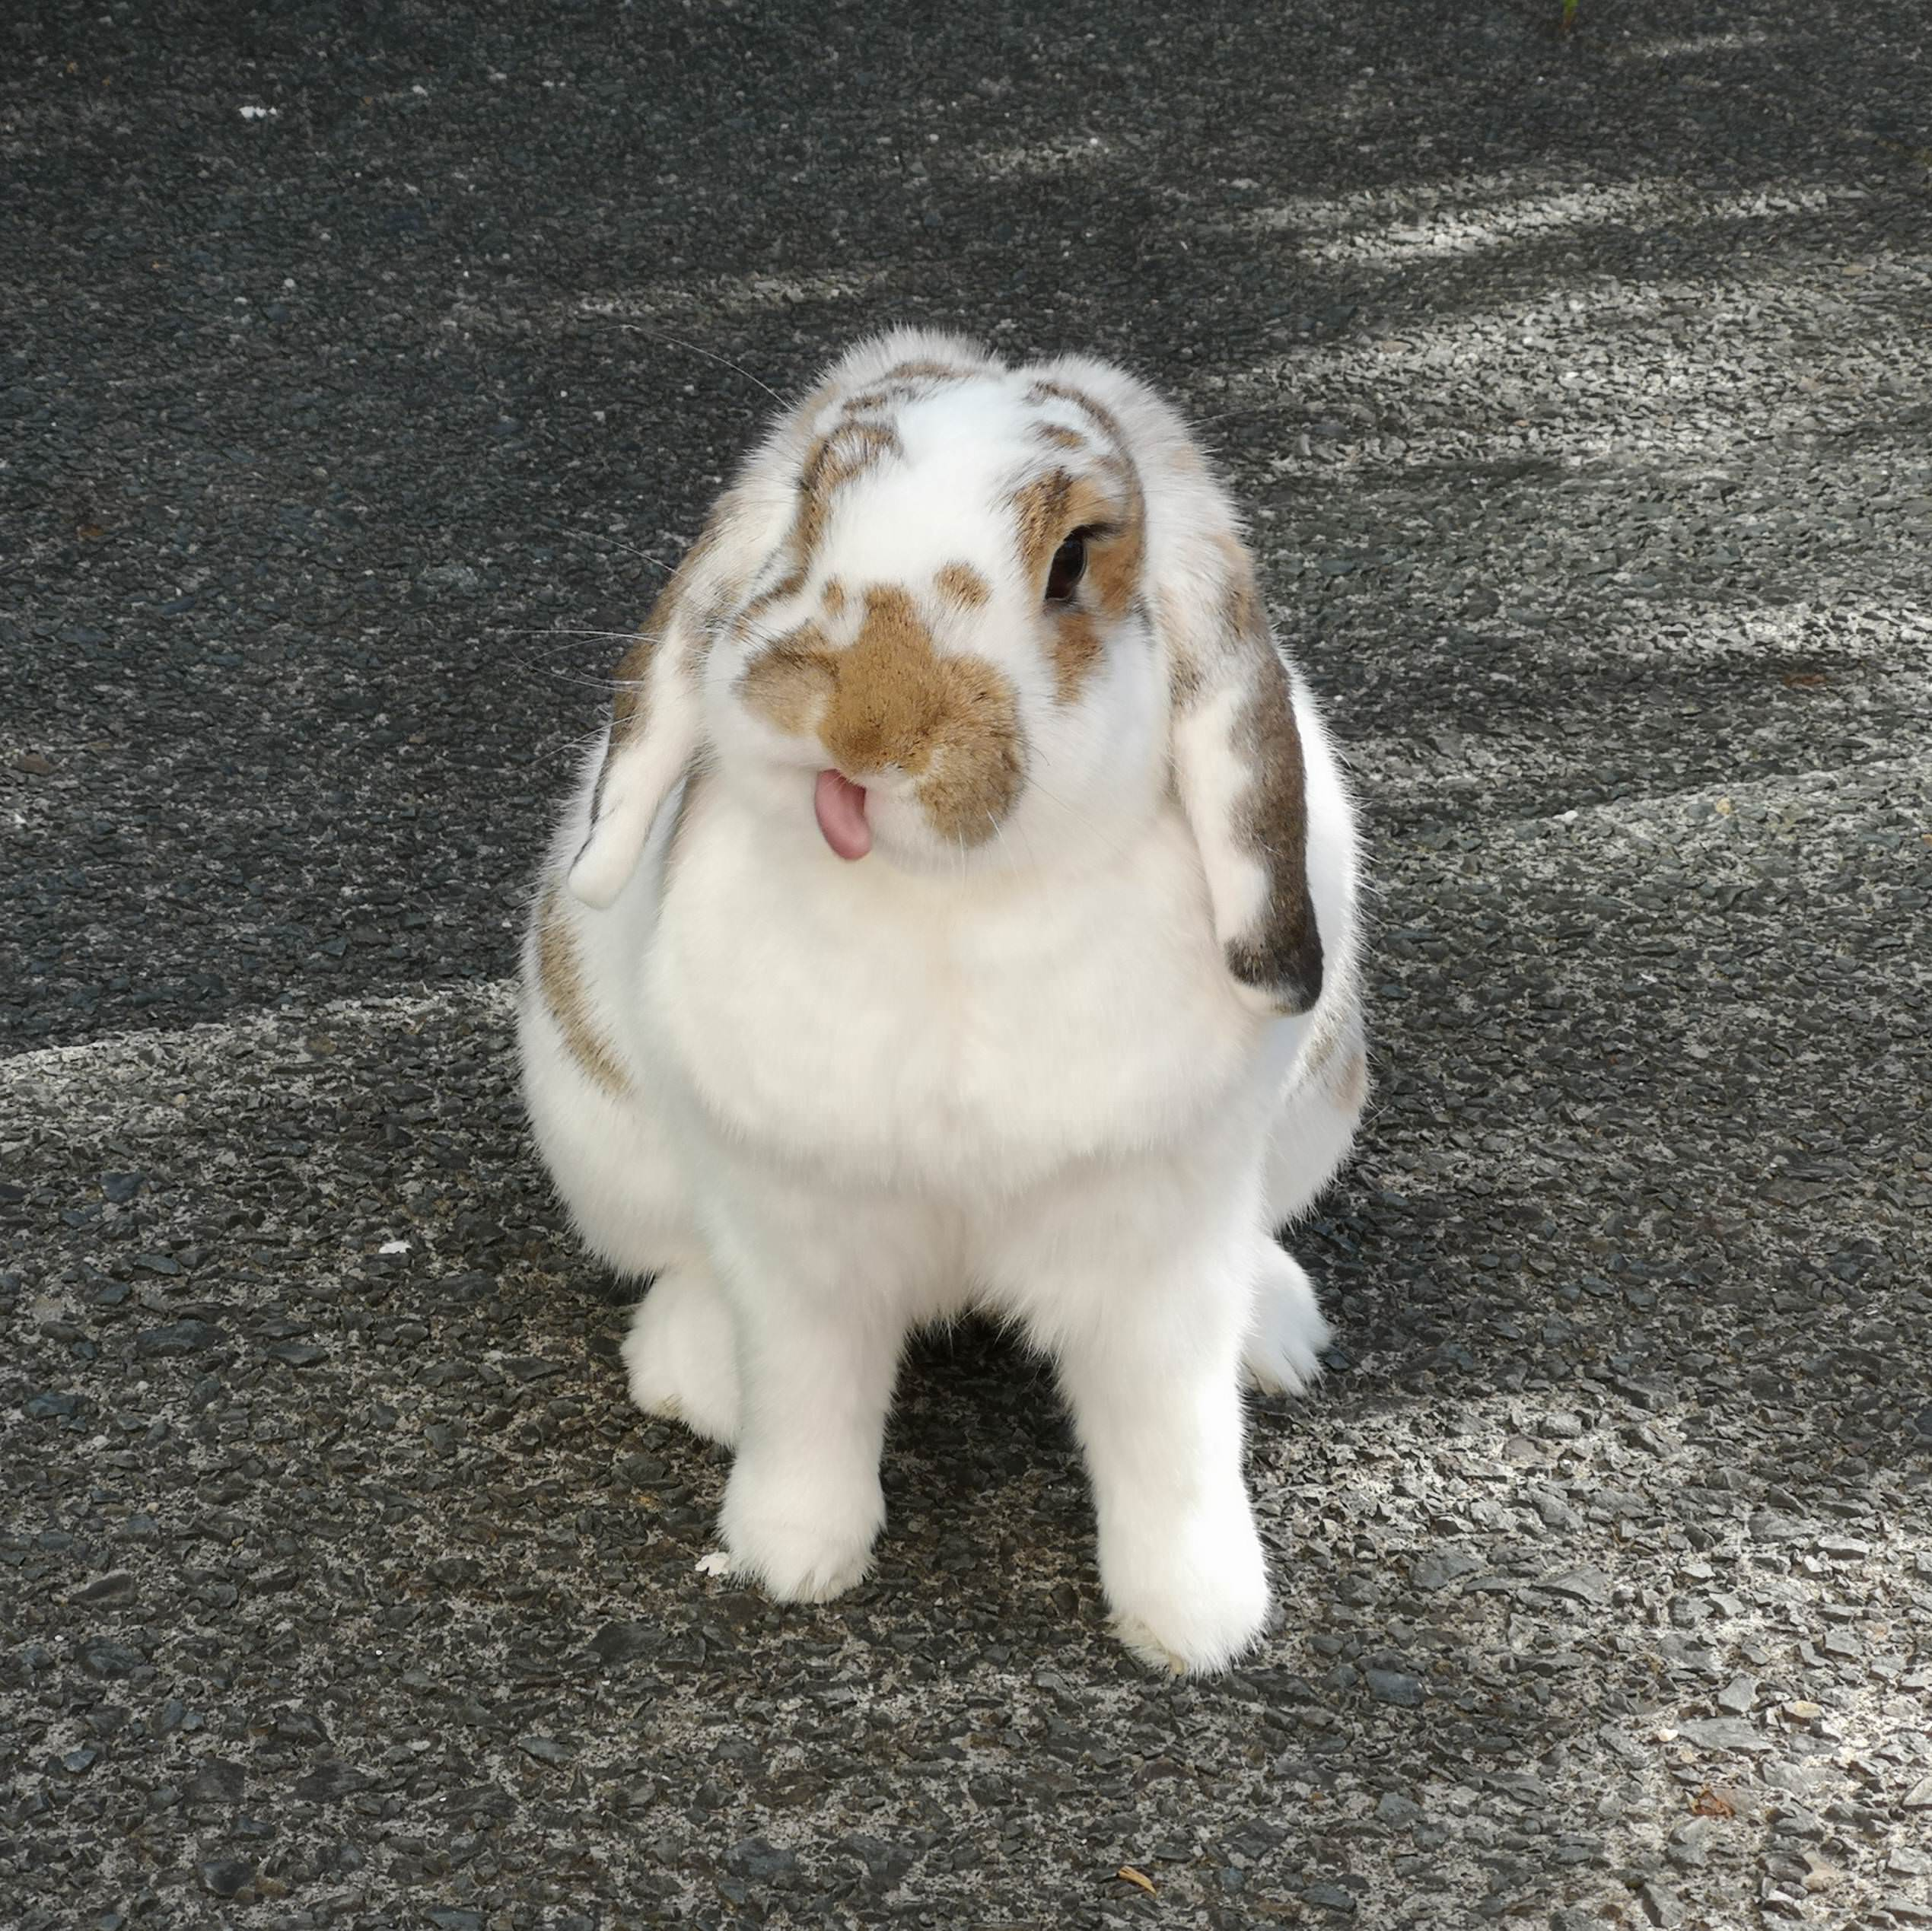bunny: (446, 294, 1426, 1722)
